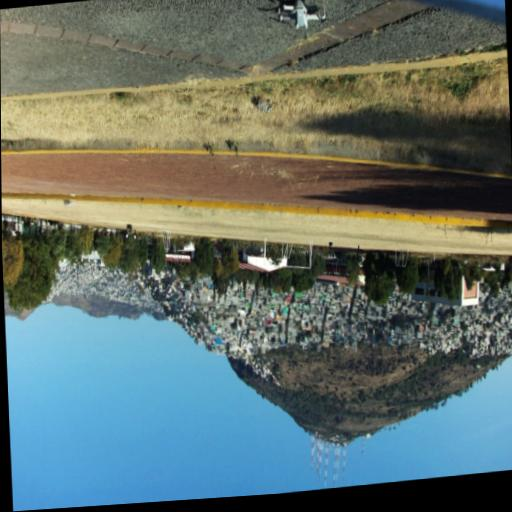drones: (274, 0, 327, 34)
